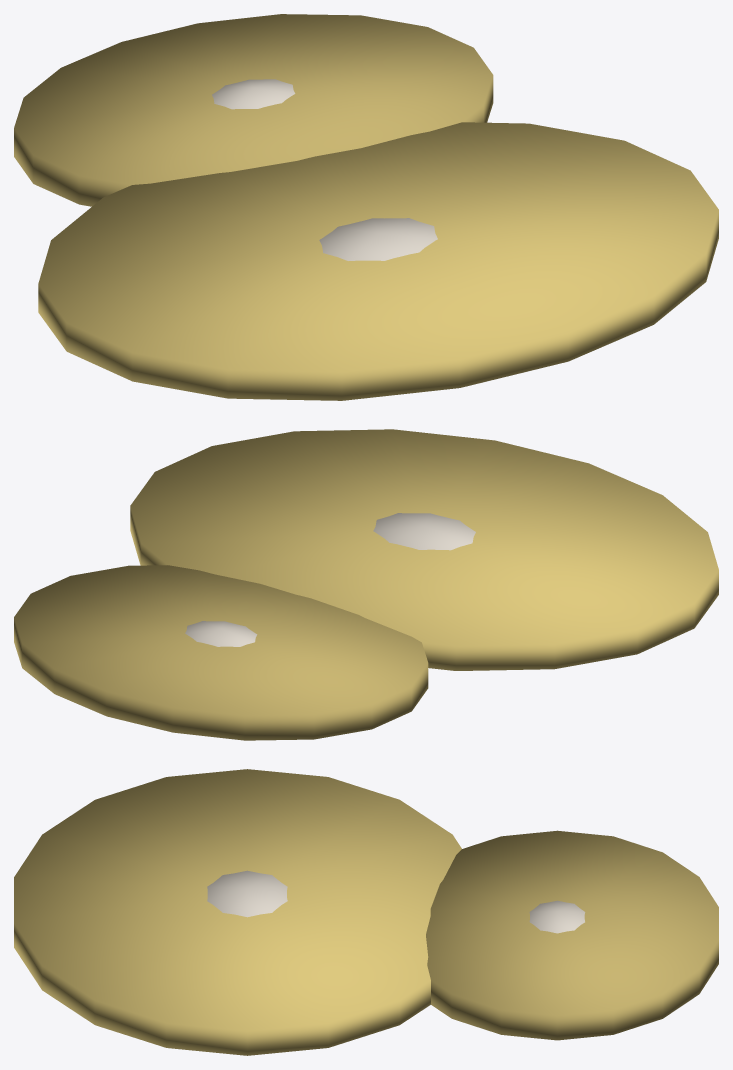
File: SH_Fly_Wing_Lemon.fbx
3 views of the same model, one above another, from view 1: azimuth 30°, elevation 25°; view 2: azimuth 150°, elevation 25°; view 3: azimuth 270°, elevation 25° (orthographic). The views are drawn at different scales.
Visible parts, largest first — view 1: SH_Fly_Wing_Lemon; view 2: SH_Fly_Wing_Lemon; view 3: SH_Fly_Wing_Lemon.
Part boxes in pixels (x1,y1,x2,y2): SH_Fly_Wing_Lemon: (14,14,718,400); SH_Fly_Wing_Lemon: (14,429,718,740); SH_Fly_Wing_Lemon: (14,769,718,1055).
Bounding box in the file's own units: 0.068 × 0.00578 × 0.0773.
